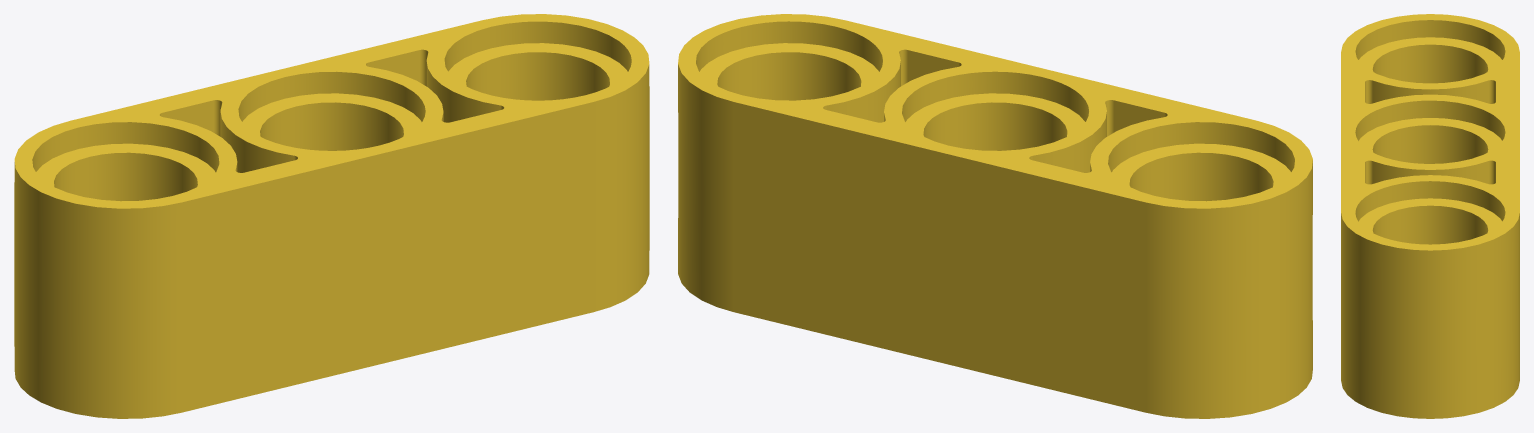
File: Beam_3.glb
3 renders of one model, left to right at view 1: azimuth 30°, elevation 25°; view 2: azimuth 150°, elevation 25°; view 3: azimuth 270°, elevation 25°, orthographic. The views are drawn at different scales.
Visible parts, largest first — view 1: 1002.dat; view 2: 1002.dat; view 3: 1002.dat.
Boxes of the visible parts, left/top/right/bottom form: 1002.dat: left=14, top=14, right=649, bottom=418; 1002.dat: left=678, top=14, right=1312, bottom=418; 1002.dat: left=1341, top=14, right=1519, bottom=418.
Size of the model in its own units: 7.81 by 2.59 by 2.49.
